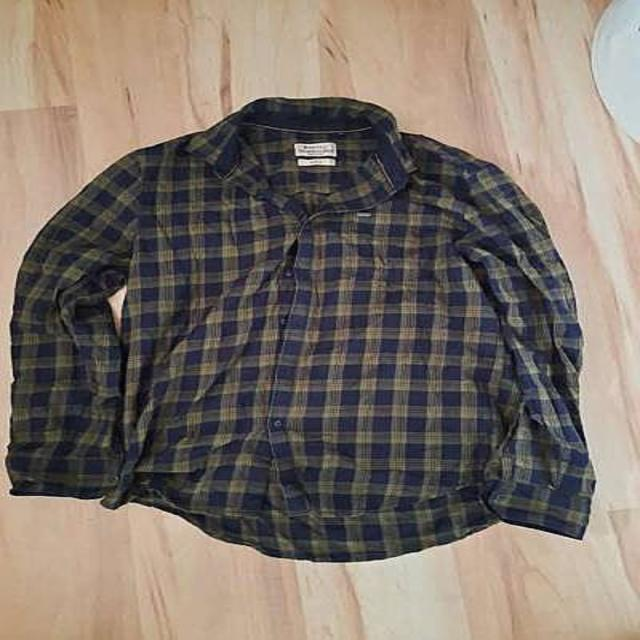SHIRT: (0, 73, 623, 574)
